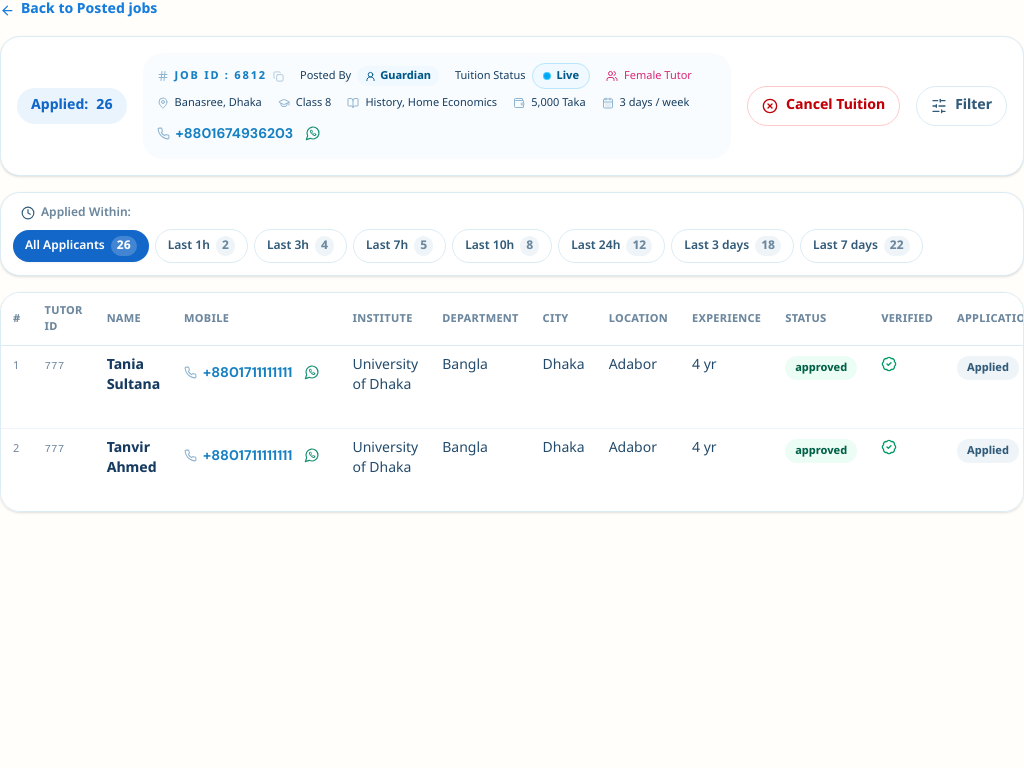
Test: Admin Applied Tutors page › keeps the tuition when the Admin backs out, and offers no Cancel once it is cancelled
Click the button "Cancel Tuition" at (824, 106), box [747,86,900,126]
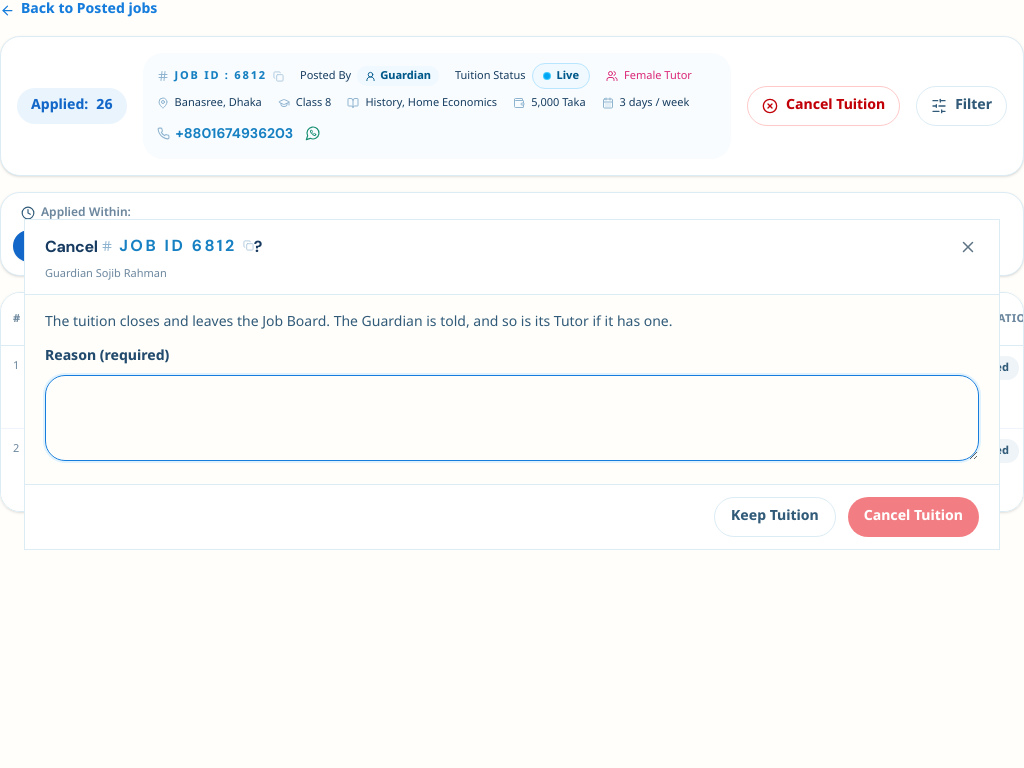
Click the button "Keep Tuition" at (775, 516), box [714,496,836,536]
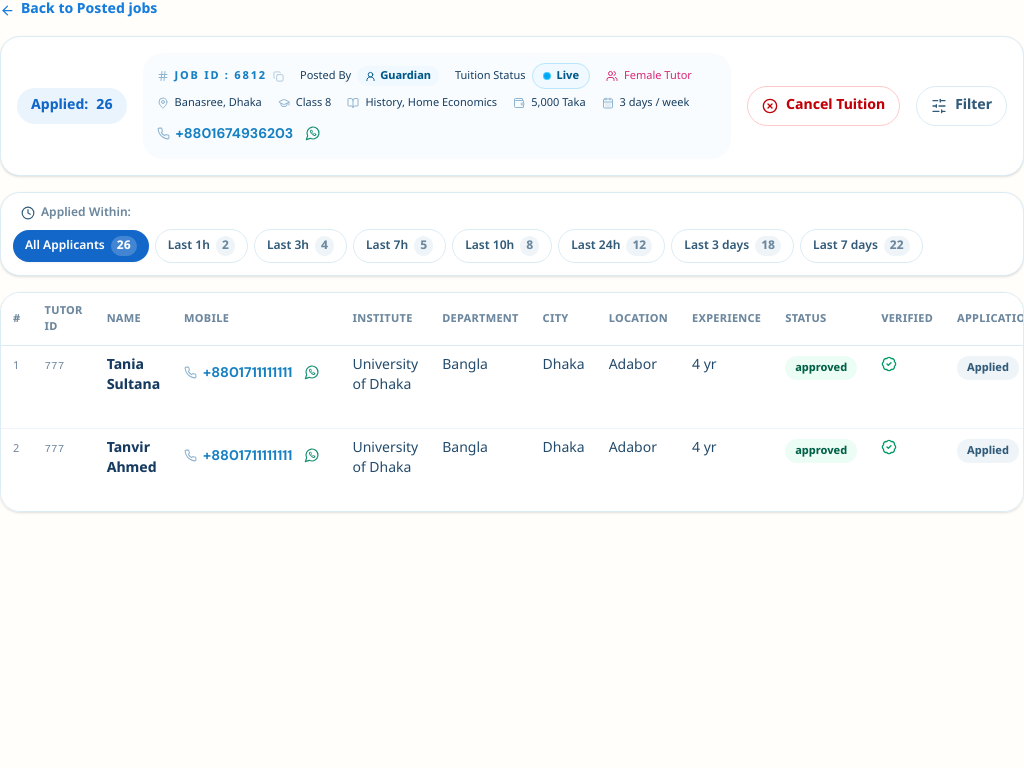
Expected: the dialog is gone
